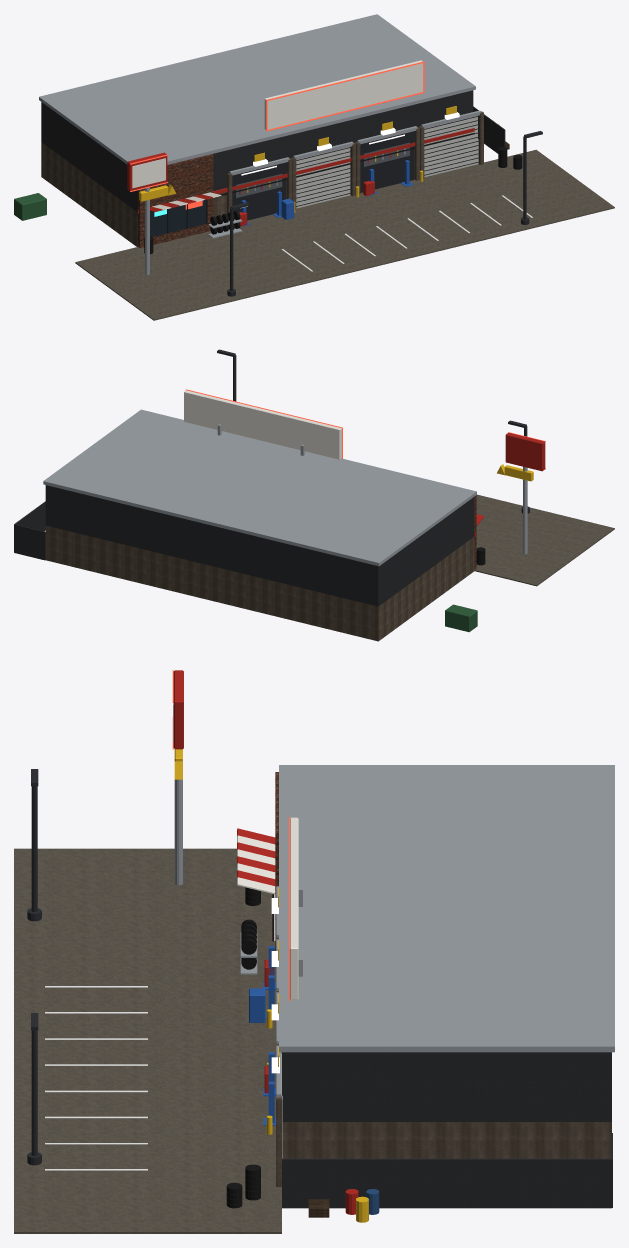
The model's file is OT_RepairShop_B.glb.
3 renders of one model, top to bottom at view 1: azimuth 30°, elevation 25°; view 2: azimuth 150°, elevation 25°; view 3: azimuth 270°, elevation 25°, orthographic. The views are drawn at different scales.
Visible parts, largest first — view 1: OT_RepairShop_B_Pavement, OT_RepairShop_B_SteelGrey__9aa0a6, OT_RepairShop_B_Corrugated, OT_RepairShop_B_SignPanel__f2efe6, OT_RepairShop_B_Block, OT_RepairShop_B_RollDoor__c2c3bf, OT_RepairShop_B_BayInterior__24262b, OT_RepairShop_B_Brick, OT_RepairShop_B_ShopRed__b5261e, OT_RepairShop_B_Frame__1a1b1e, OT_RepairShop_B_Glass__1e2a33, OT_RepairShop_B_NeonRed__ff3b2a (+8 smaller); view 2: OT_RepairShop_B_SteelGrey__9aa0a6, OT_RepairShop_B_Corrugated, OT_RepairShop_B_Block, OT_RepairShop_B_Pavement, OT_RepairShop_B_SignPanel__f2efe6, OT_RepairShop_B_ShopRed__b5261e, OT_RepairShop_B_Dumpster__2f5d3a, OT_RepairShop_B_PoleDark__2a2c30; view 3: OT_RepairShop_B_SteelGrey__9aa0a6, OT_RepairShop_B_Pavement, OT_RepairShop_B_Corrugated, OT_RepairShop_B_Block, OT_RepairShop_B_SignPanel__f2efe6, OT_RepairShop_B_ShopRed__b5261e, OT_RepairShop_B_PoleDark__2a2c30, OT_RepairShop_B_Tire__151515, OT_RepairShop_B_PaintWhite__f0f0ee, OT_RepairShop_B_Yellow__e8b81e, OT_RepairShop_B_LiftBlue__2a5fb0.
Part boxes in pixels (x1,y1,x2,y2): OT_RepairShop_B_Pavement: (75, 149, 614, 320); OT_RepairShop_B_SteelGrey__9aa0a6: (39, 14, 481, 274); OT_RepairShop_B_Corrugated: (41, 90, 505, 211); OT_RepairShop_B_SignPanel__f2efe6: (132, 60, 423, 209); OT_RepairShop_B_Block: (41, 111, 483, 246); OT_RepairShop_B_RollDoor__c2c3bf: (296, 115, 477, 208); OT_RepairShop_B_BayInterior__24262b: (232, 131, 414, 220); OT_RepairShop_B_Brick: (138, 154, 213, 248); OT_RepairShop_B_ShopRed__b5261e: (127, 128, 474, 226); OT_RepairShop_B_Frame__1a1b1e: (167, 116, 478, 233); OT_RepairShop_B_Glass__1e2a33: (150, 199, 206, 236); OT_RepairShop_B_NeonRed__ff3b2a: (130, 61, 424, 209); OT_RepairShop_B_SteelGrey__9aa0a6: (43, 409, 527, 566); OT_RepairShop_B_Corrugated: (14, 485, 474, 606); OT_RepairShop_B_Block: (45, 525, 474, 641); OT_RepairShop_B_Pavement: (474, 494, 614, 586); OT_RepairShop_B_SignPanel__f2efe6: (184, 390, 341, 459); OT_RepairShop_B_ShopRed__b5261e: (474, 432, 545, 536); OT_RepairShop_B_Dumpster__2f5d3a: (445, 604, 477, 632); OT_RepairShop_B_PoleDark__2a2c30: (217, 349, 529, 513); OT_RepairShop_B_SteelGrey__9aa0a6: (174, 765, 614, 1097); OT_RepairShop_B_Pavement: (14, 848, 281, 1233); OT_RepairShop_B_Corrugated: (282, 1052, 612, 1208); OT_RepairShop_B_Block: (276, 887, 611, 1186); OT_RepairShop_B_SignPanel__f2efe6: (173, 703, 298, 999); OT_RepairShop_B_ShopRed__b5261e: (173, 670, 358, 1214); OT_RepairShop_B_PoleDark__2a2c30: (27, 769, 41, 1165); OT_RepairShop_B_Tire__151515: (226, 887, 260, 1208); OT_RepairShop_B_PaintWhite__f0f0ee: (45, 986, 147, 1170); OT_RepairShop_B_Yellow__e8b81e: (174, 749, 368, 1222); OT_RepairShop_B_LiftBlue__2a5fb0: (263, 946, 275, 1125).
Size of the model in its own units: 44 by 10.7 by 29.15.
Materials: 31 (5 with a texture image).
